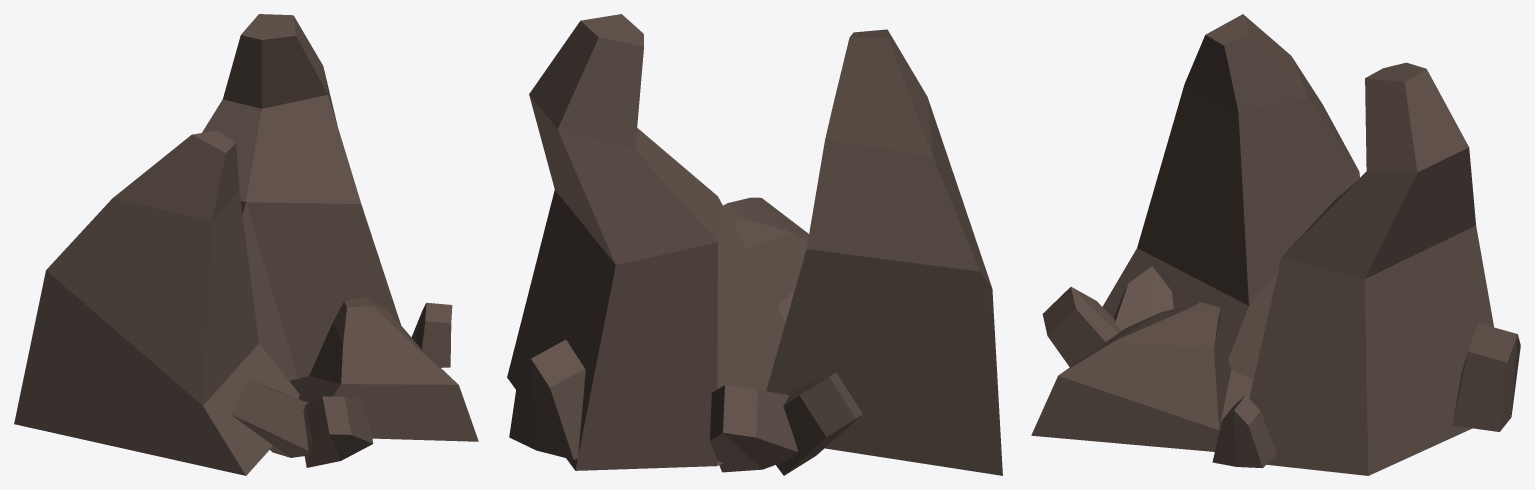
Rendered from 15 Stone_1.FBX.
3 views of the same model, side by side, from view 1: azimuth 30°, elevation 25°; view 2: azimuth 150°, elevation 25°; view 3: azimuth 270°, elevation 25° (orthographic). The views are drawn at different scales.
Visible parts, largest first — view 1: Rock Type3 02 mesh; view 2: Rock Type3 02 mesh; view 3: Rock Type3 02 mesh.
Part boxes in pixels (x1,y1,x2,y2): Rock Type3 02 mesh: [14, 14, 478, 475]; Rock Type3 02 mesh: [507, 14, 1002, 475]; Rock Type3 02 mesh: [1031, 14, 1520, 475].
Bounding box in the file's own units: 1148 × 918 × 1108.
